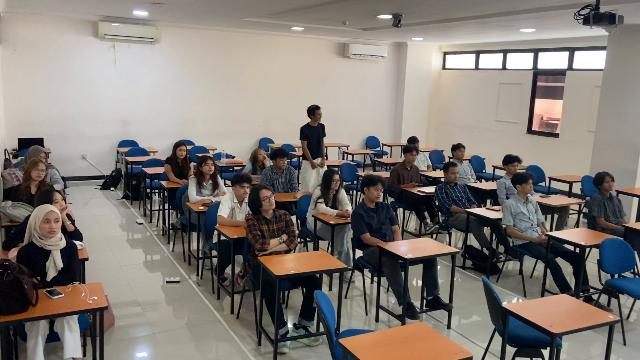fokus: (41, 213, 58, 236), (53, 193, 67, 212), (260, 191, 275, 208), (32, 163, 46, 181), (369, 186, 382, 202), (522, 178, 534, 194), (203, 159, 215, 174), (603, 176, 614, 192), (237, 183, 249, 197), (508, 162, 519, 175), (449, 168, 459, 182), (332, 175, 340, 190), (409, 151, 418, 164), (277, 157, 286, 169), (177, 147, 186, 158), (258, 150, 267, 161), (456, 149, 465, 159)
